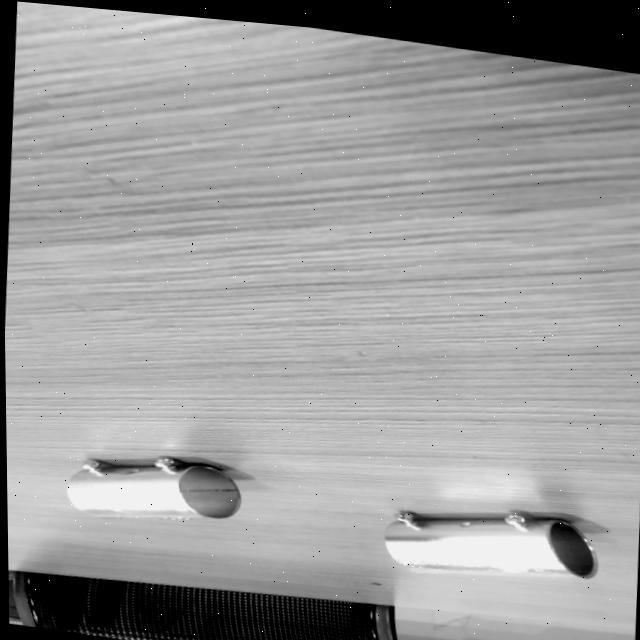Co_Lon: (383, 509, 598, 578)
Co_Nho: (66, 457, 240, 519)
